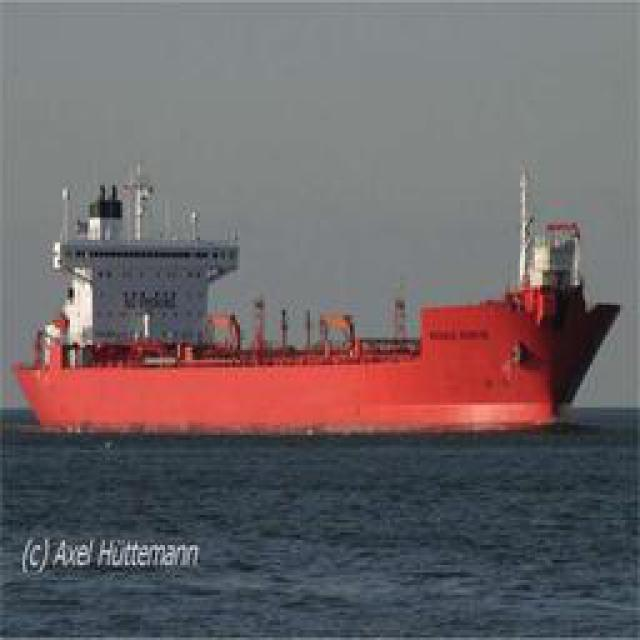Ship: (21, 180, 621, 443)
